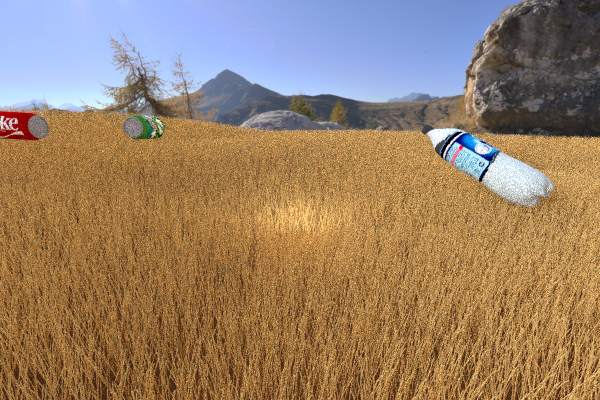Plastic Bottle: (421, 124, 554, 207), (0, 110, 49, 140), (122, 115, 165, 139)
